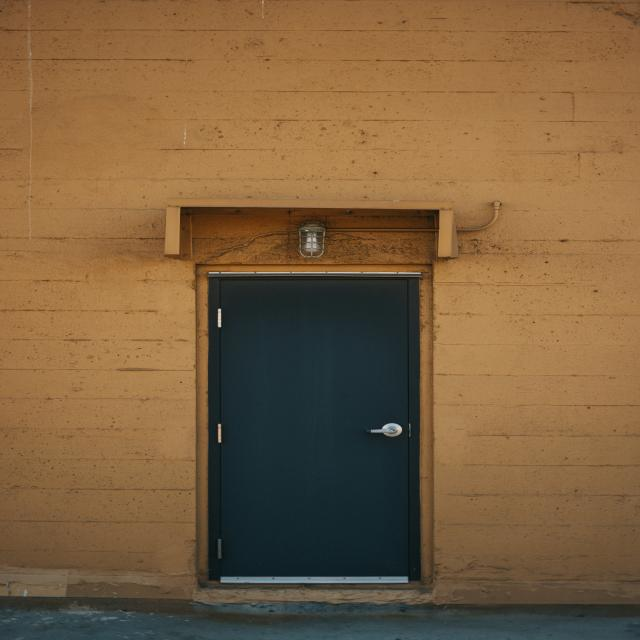door-handle: (367, 424, 403, 436)
